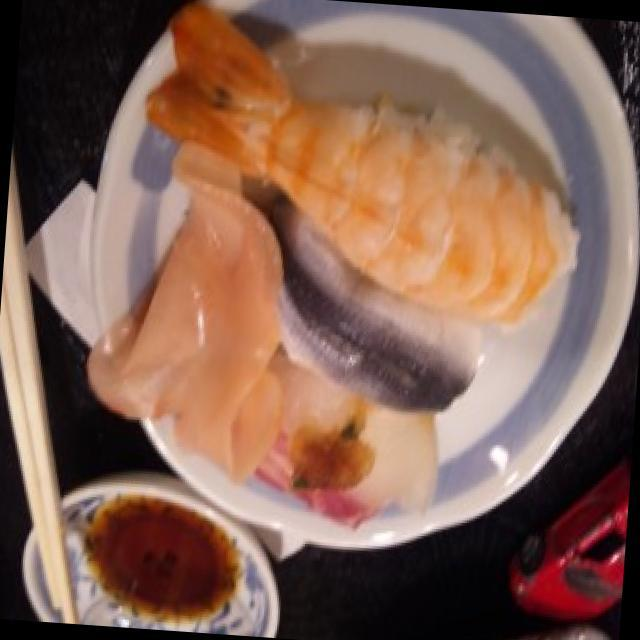Sushi: (129, 60, 552, 532)
